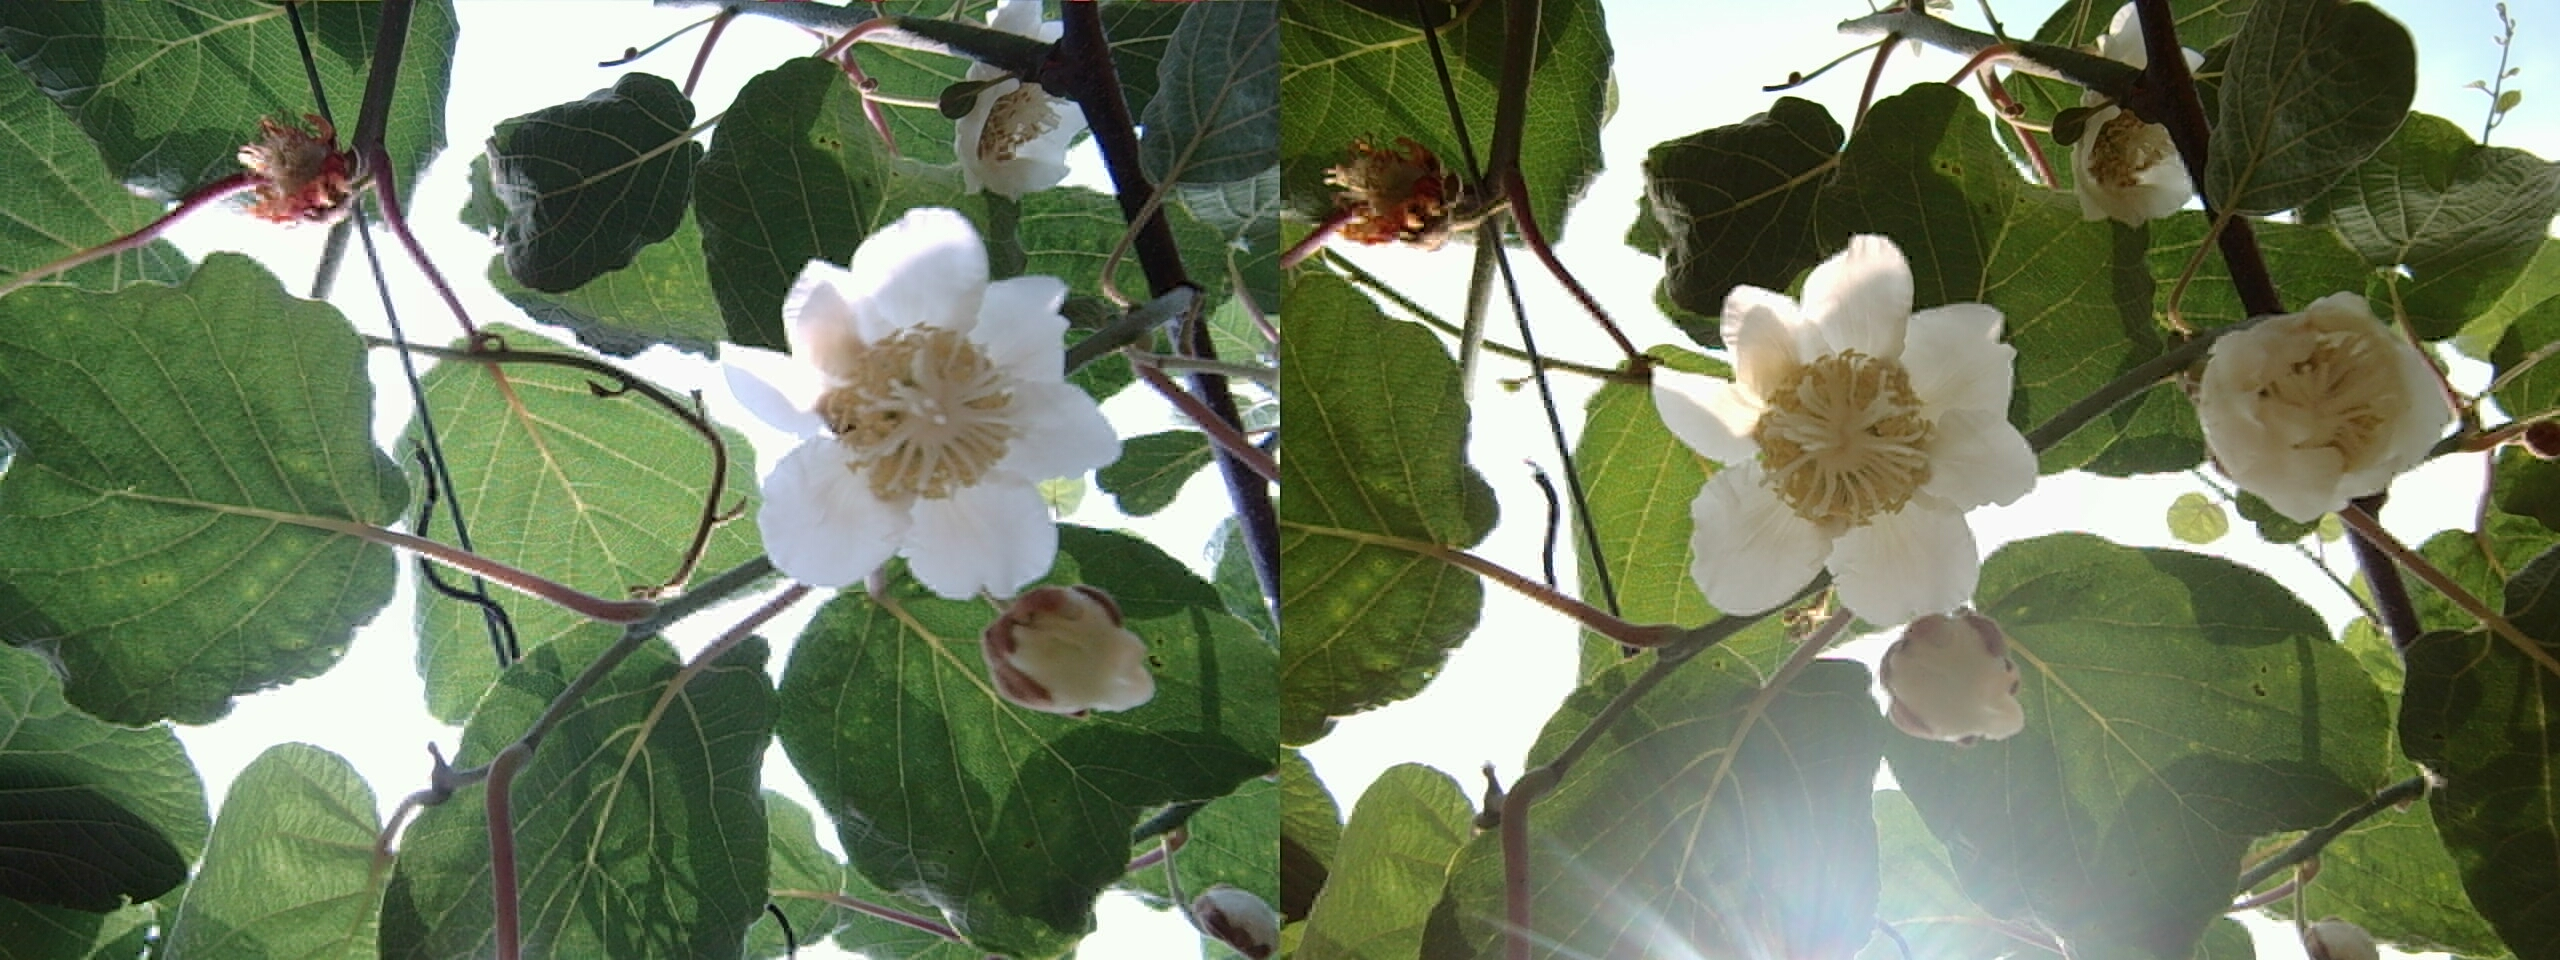flower: (1683, 247, 2010, 601), (771, 233, 1084, 578), (2196, 281, 2446, 518), (981, 576, 1146, 710), (1869, 606, 2020, 743), (942, 75, 1074, 188)
